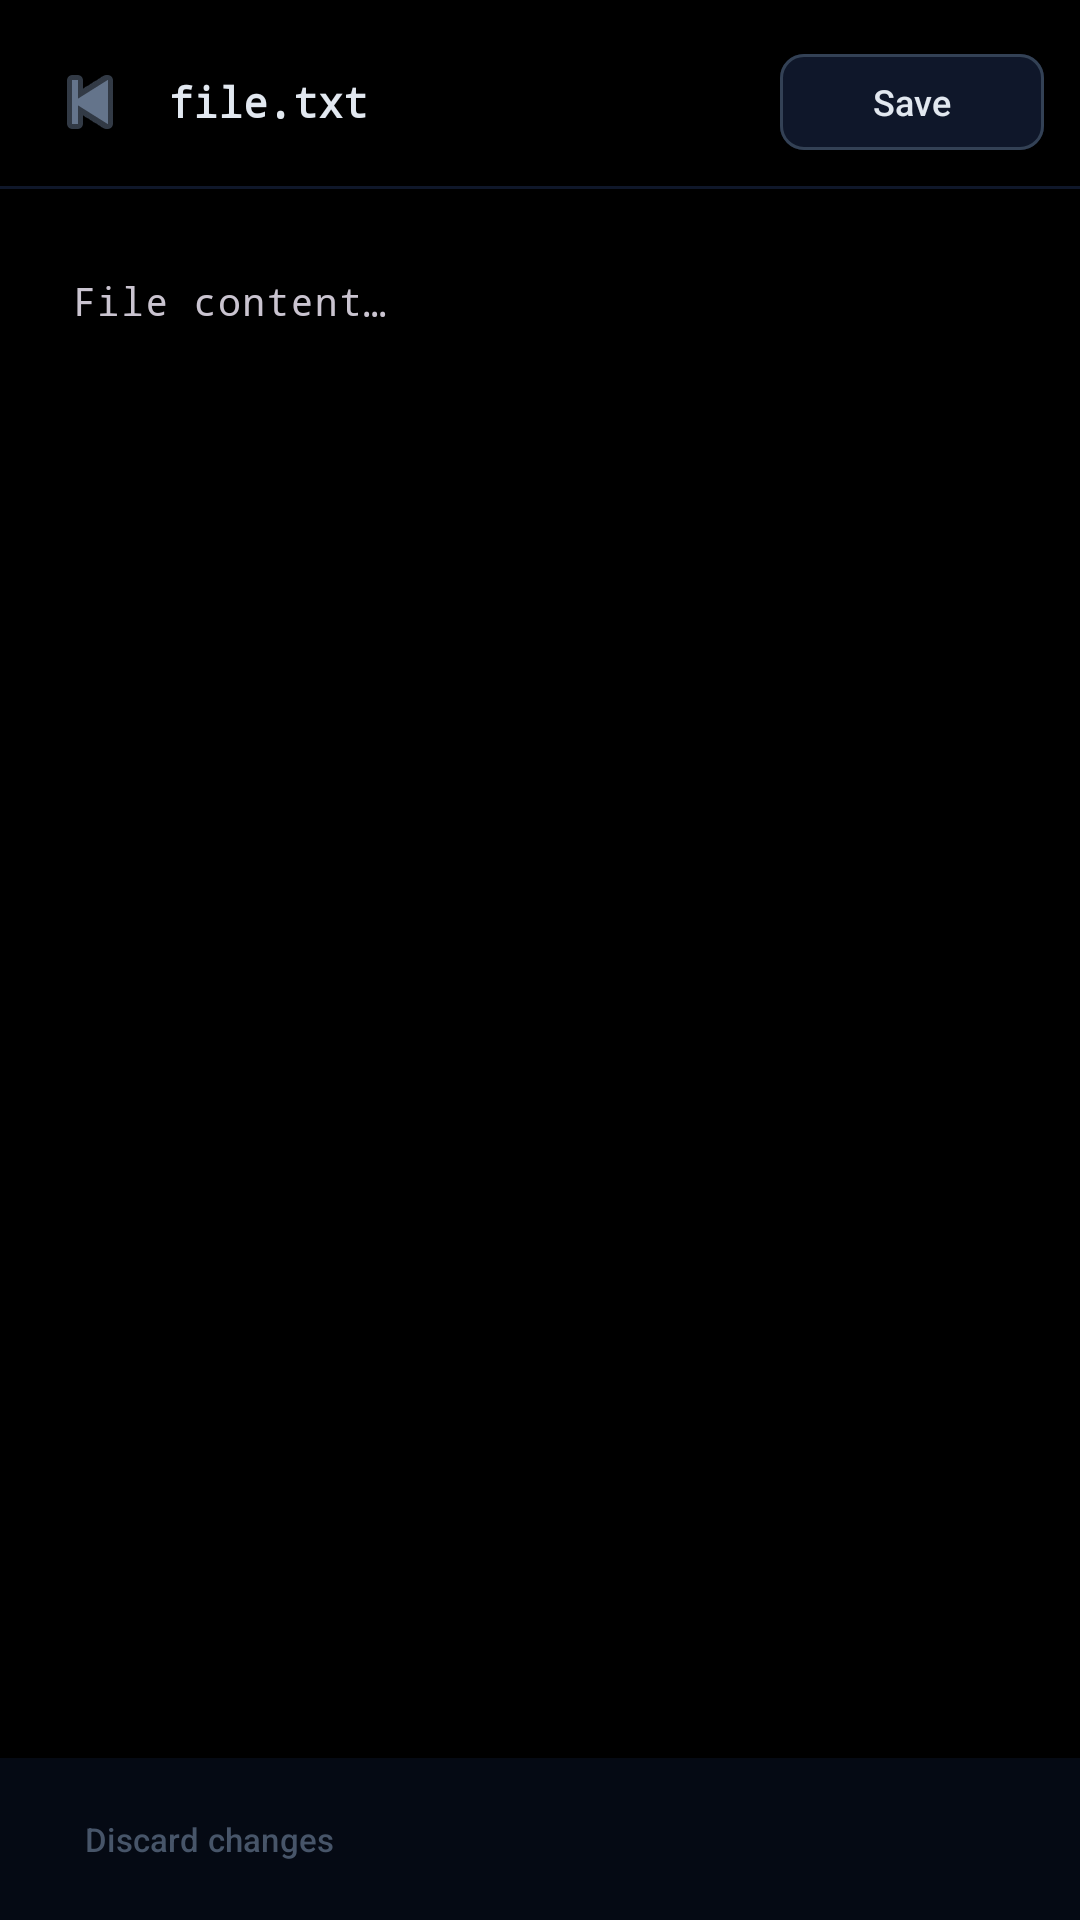

Icons on this 1080x1920 Android screen, each with its box as (x1, y1, x2, y2):
Back: (67, 75, 113, 129)
